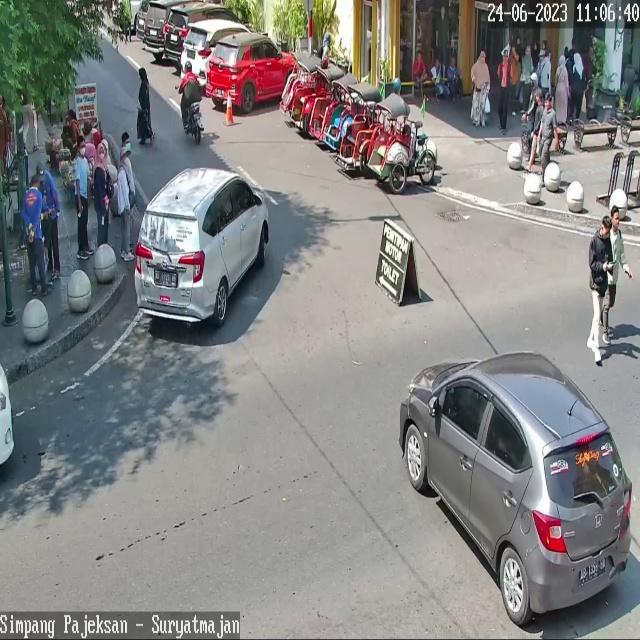bus: (182, 103, 204, 146)
motorcycle: (399, 352, 632, 625), (135, 169, 269, 326), (206, 33, 300, 112), (163, 4, 246, 64), (181, 21, 252, 87), (143, 0, 169, 53)
